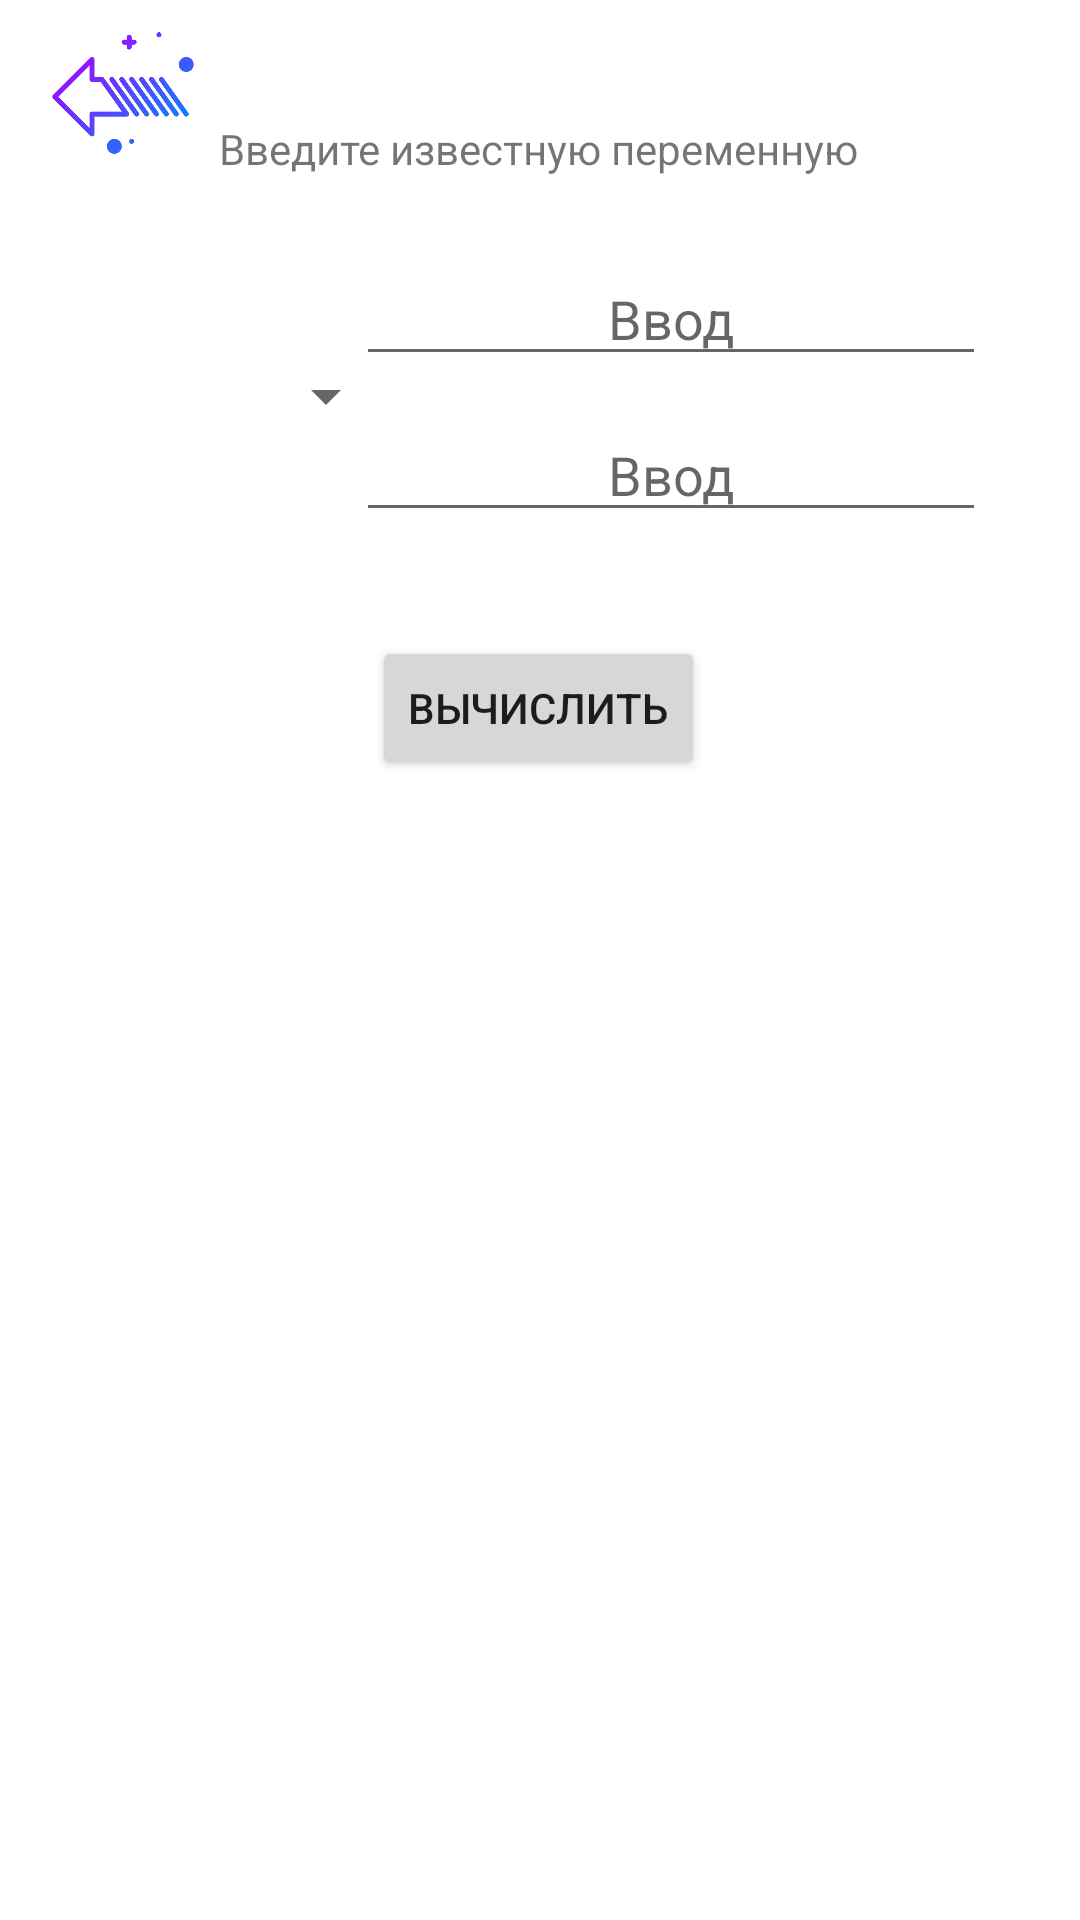

Icons on this 1080px x 1920px Android screen, each with the point to tap as [x,y]:
Назад: [147,98]
